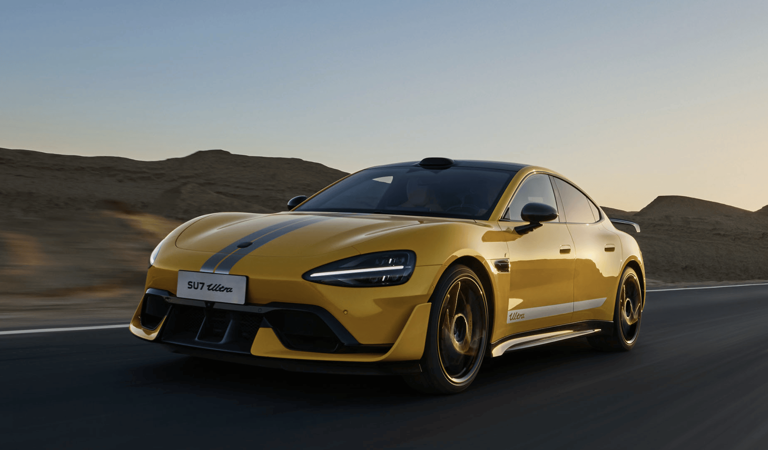su7: (118, 146, 639, 395)
